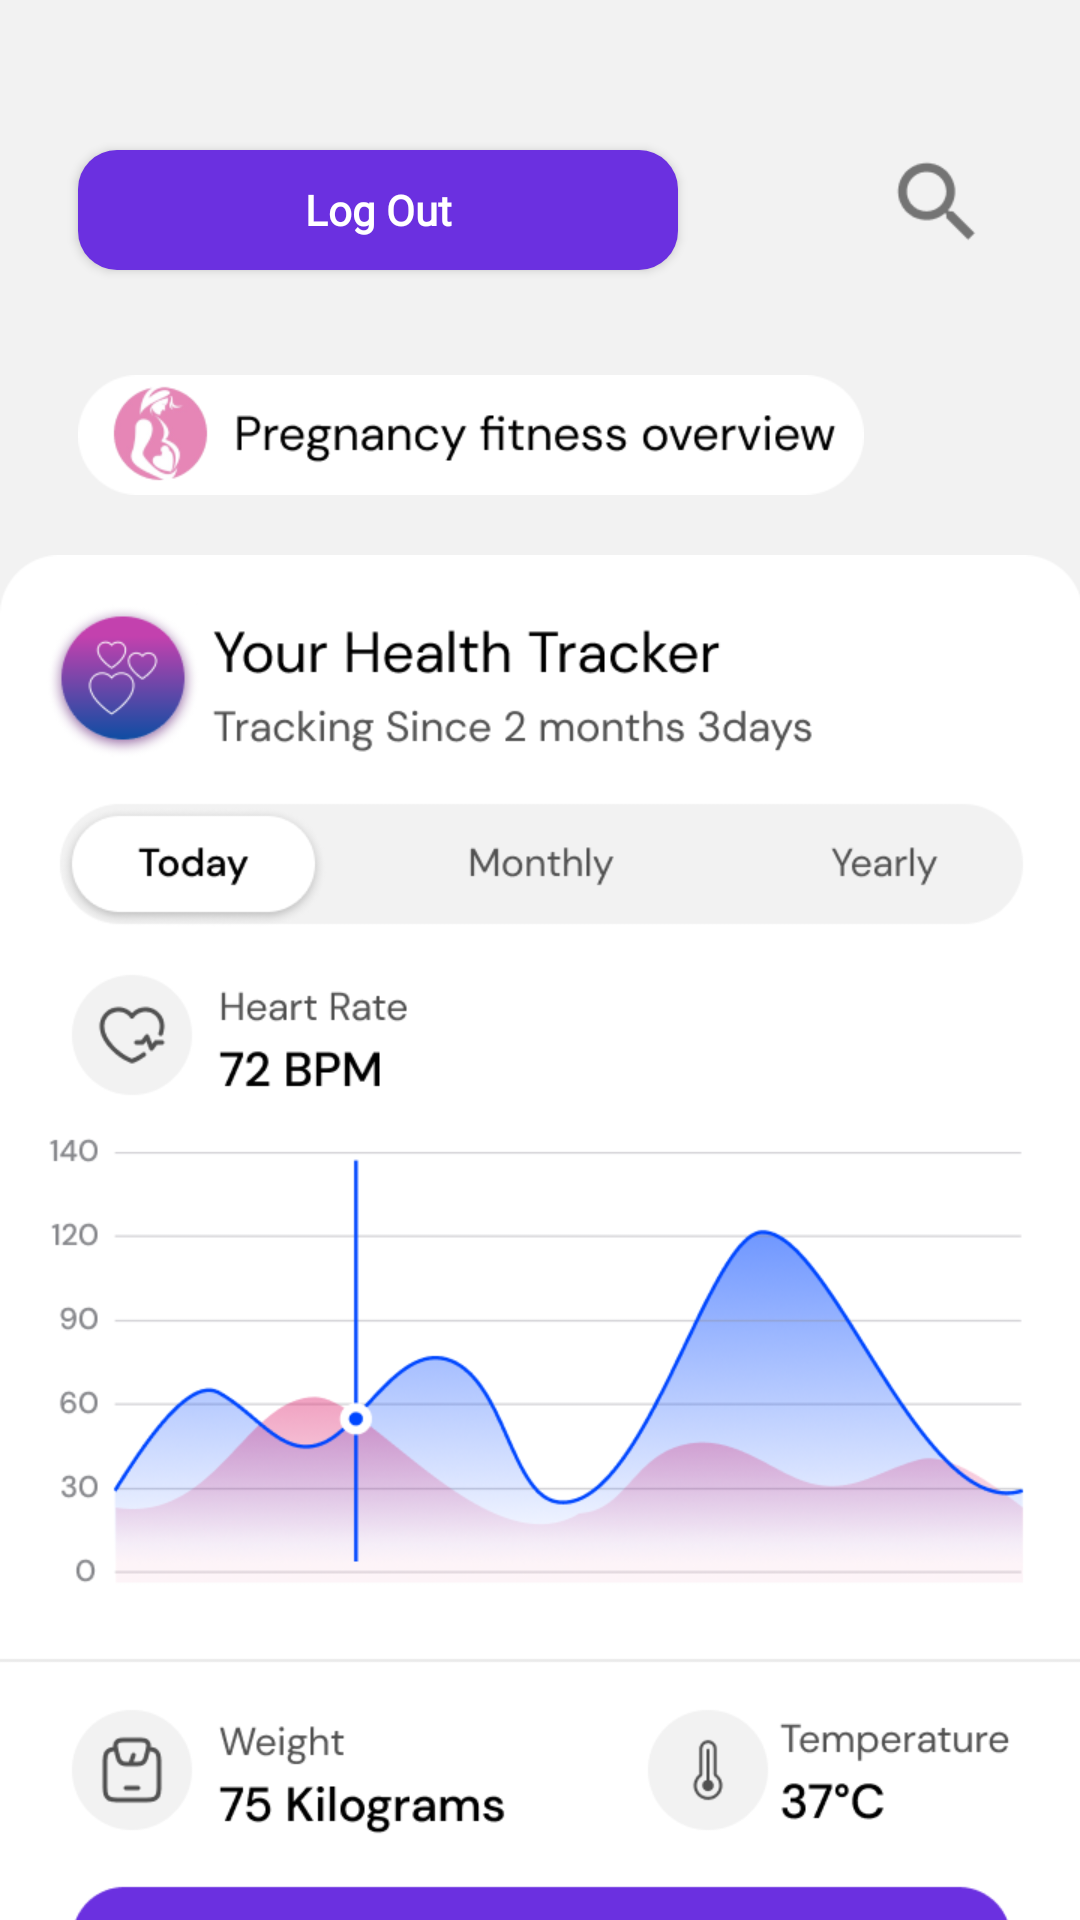

Screen size 1080*1920. Icon name, then its box in pixels as bbox=(x1, y1, x2, y2):
search: bbox=(897, 162, 975, 240)
